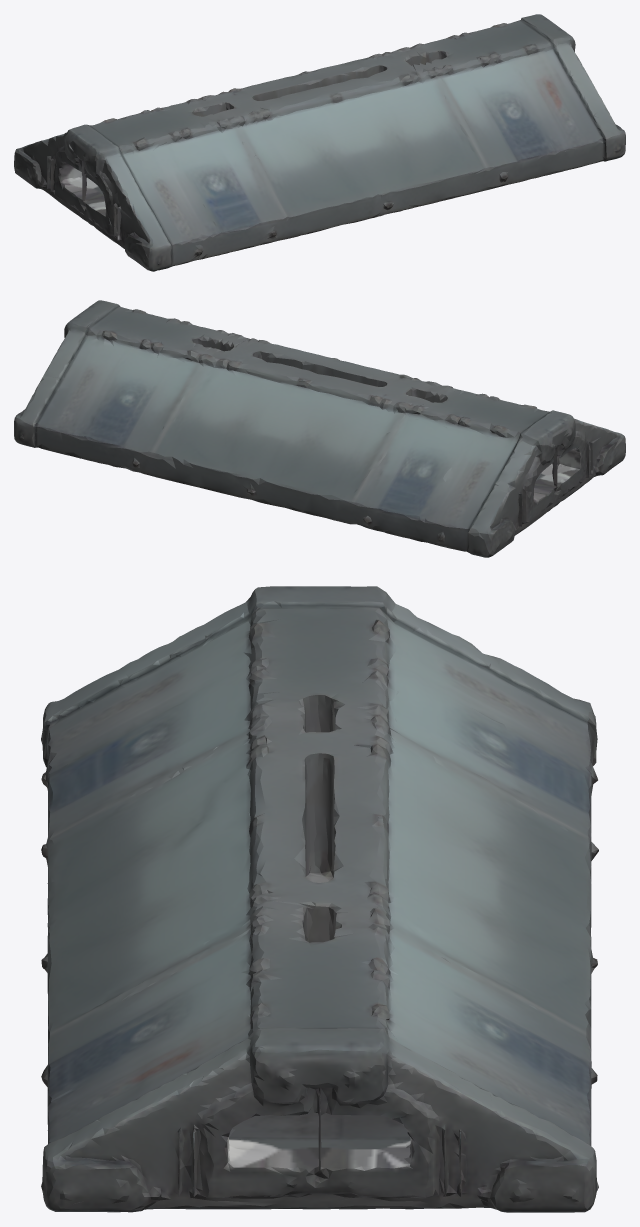
File: rodin_CK1_WallDoor_raw.glb
3 renders of one model, top to bottom at view 1: azimuth 30°, elevation 25°; view 2: azimuth 150°, elevation 25°; view 3: azimuth 270°, elevation 25°, orthographic. The views are drawn at different scales.
Parts seen in each view (by area): view 1: model; view 2: model; view 3: model.
Part boxes in pixels (x1,y1,x2,y2): model: (14,14,625,271); model: (14,300,625,557); model: (41,586,598,1212).
Size of the model in its own units: 1.89 by 0.3161 by 0.9425.
Materials: 1 (1 with a texture image).
